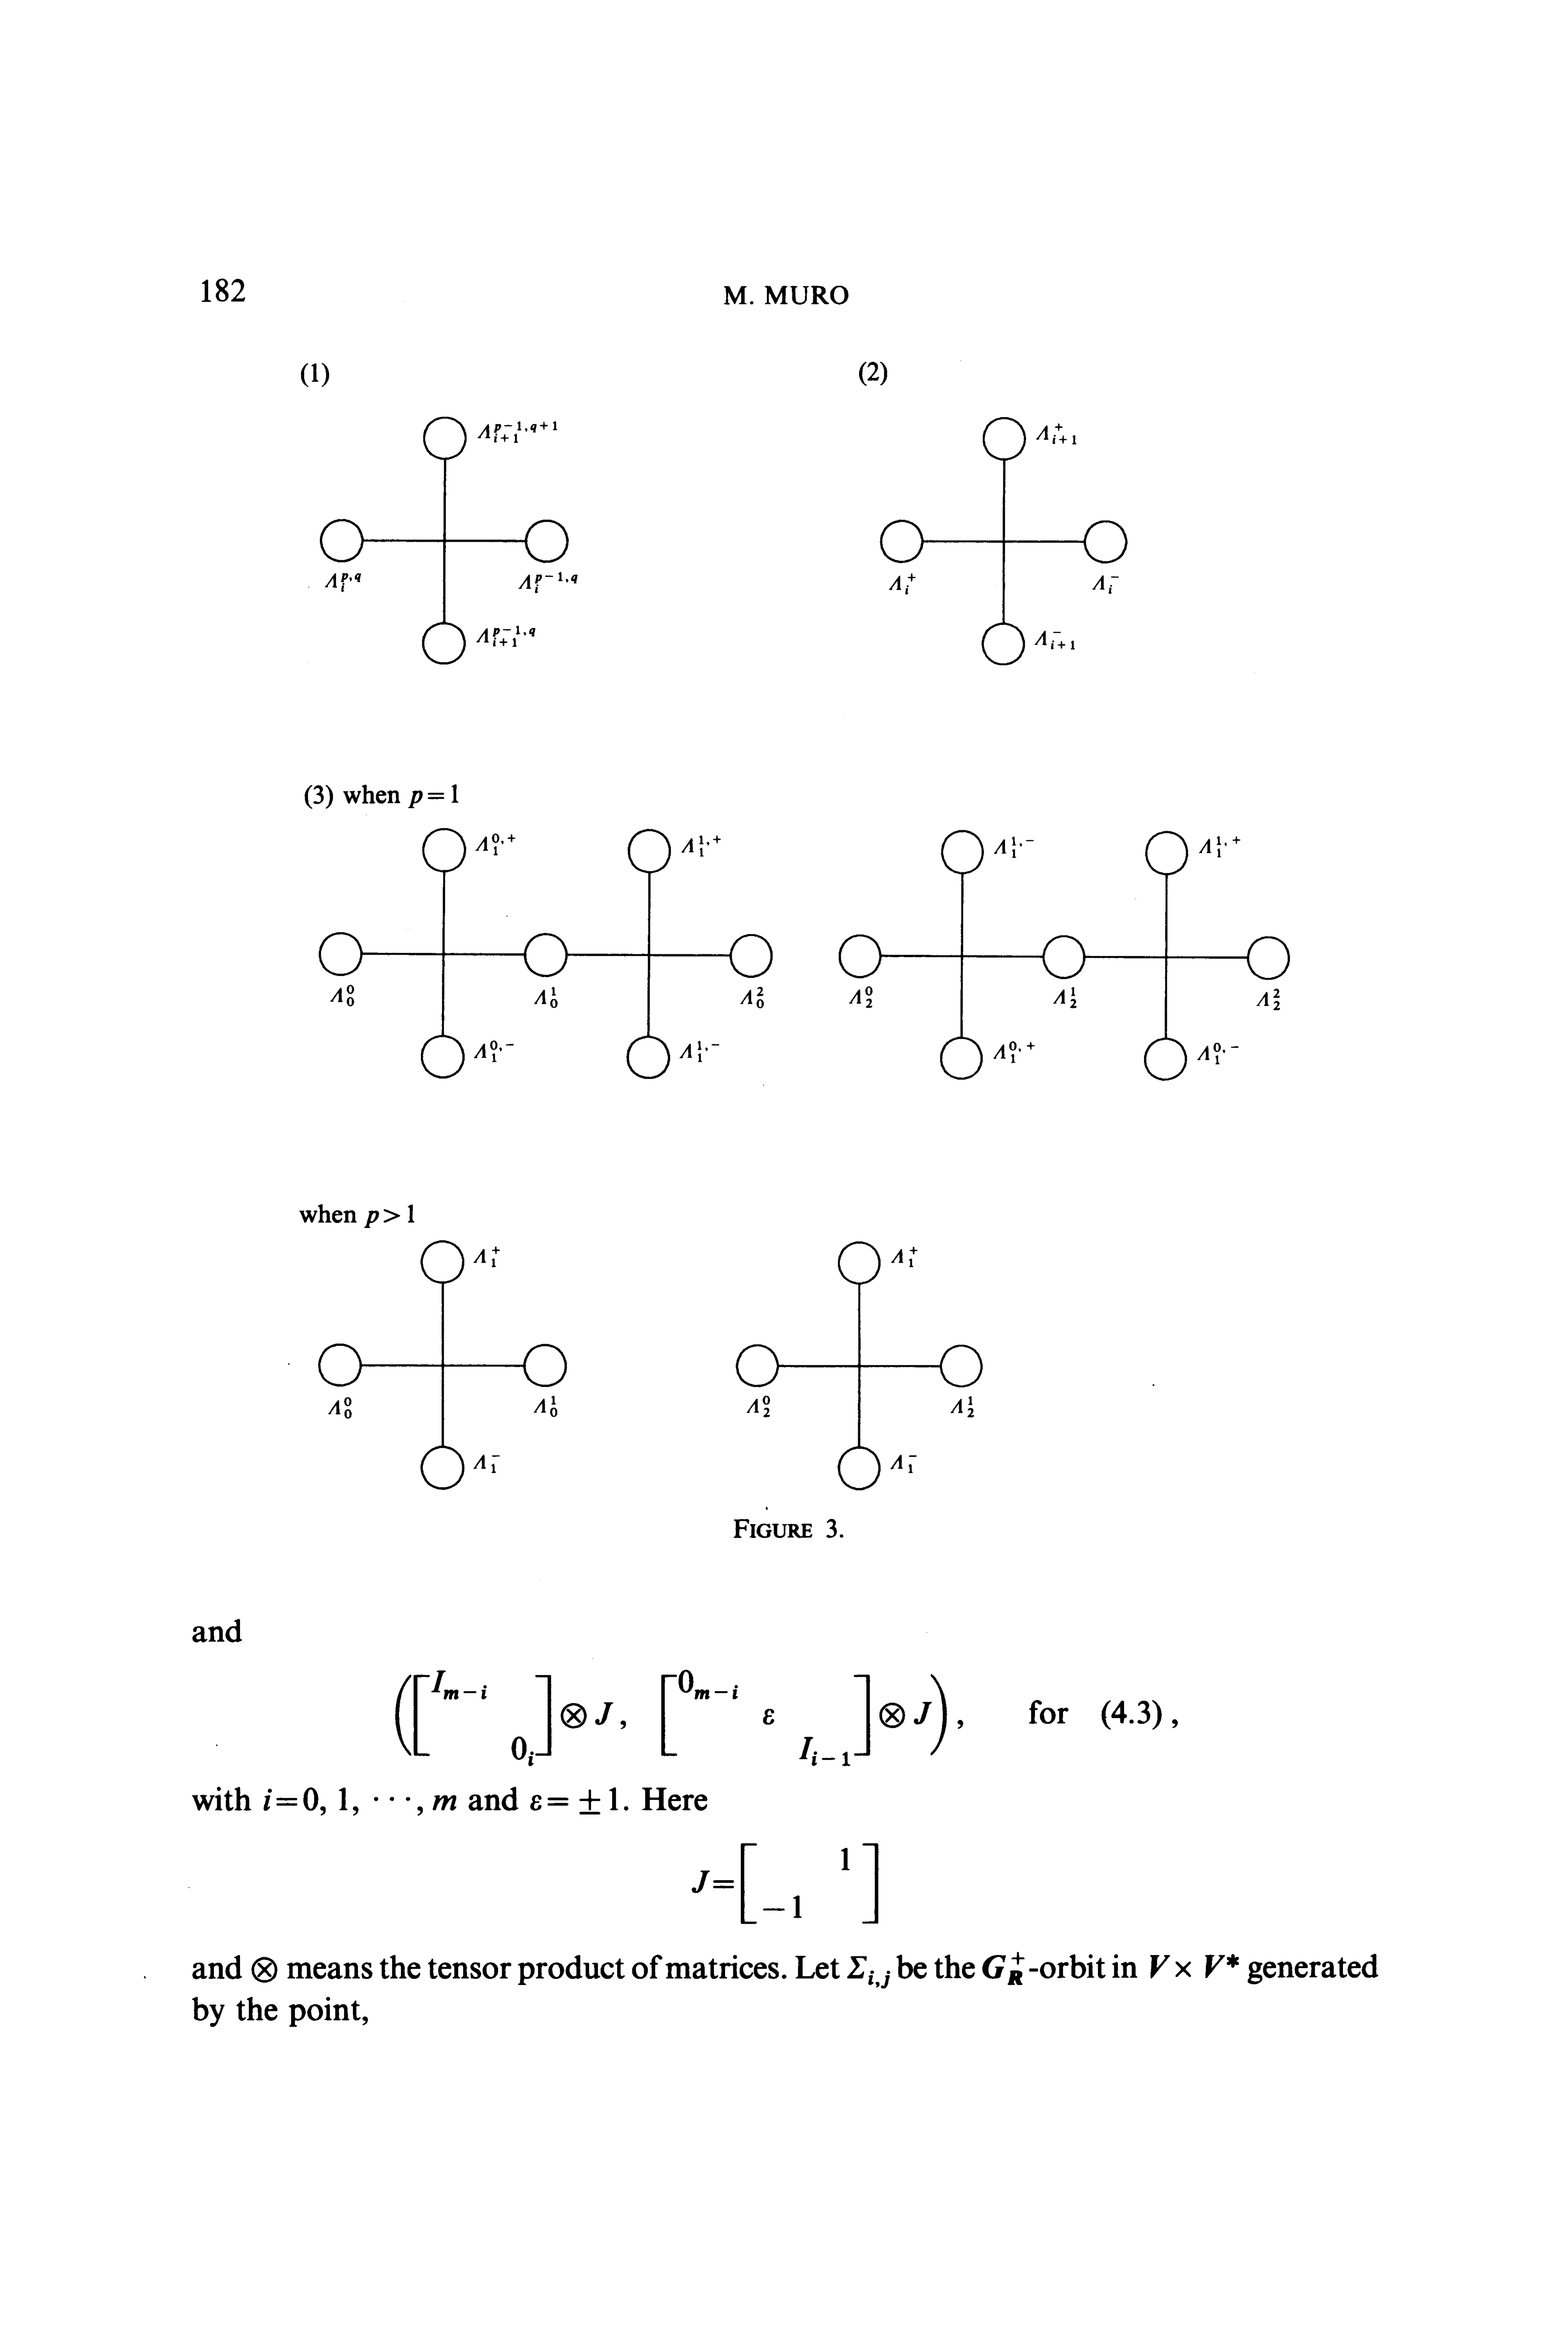maths: (661, 1670, 947, 1766), (396, 1670, 625, 1766), (691, 1843, 878, 1923), (264, 1787, 455, 1815), (530, 1787, 618, 1815), (1150, 1953, 1239, 1978), (982, 1951, 1024, 1985), (847, 1957, 891, 1988), (364, 1204, 415, 1227), (252, 1957, 276, 1983)
